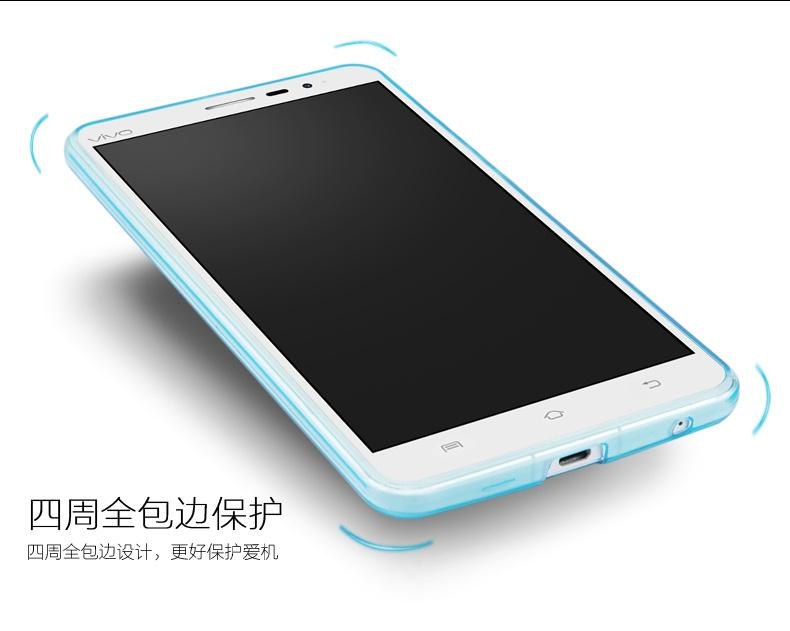phone: (69, 64, 740, 493)
